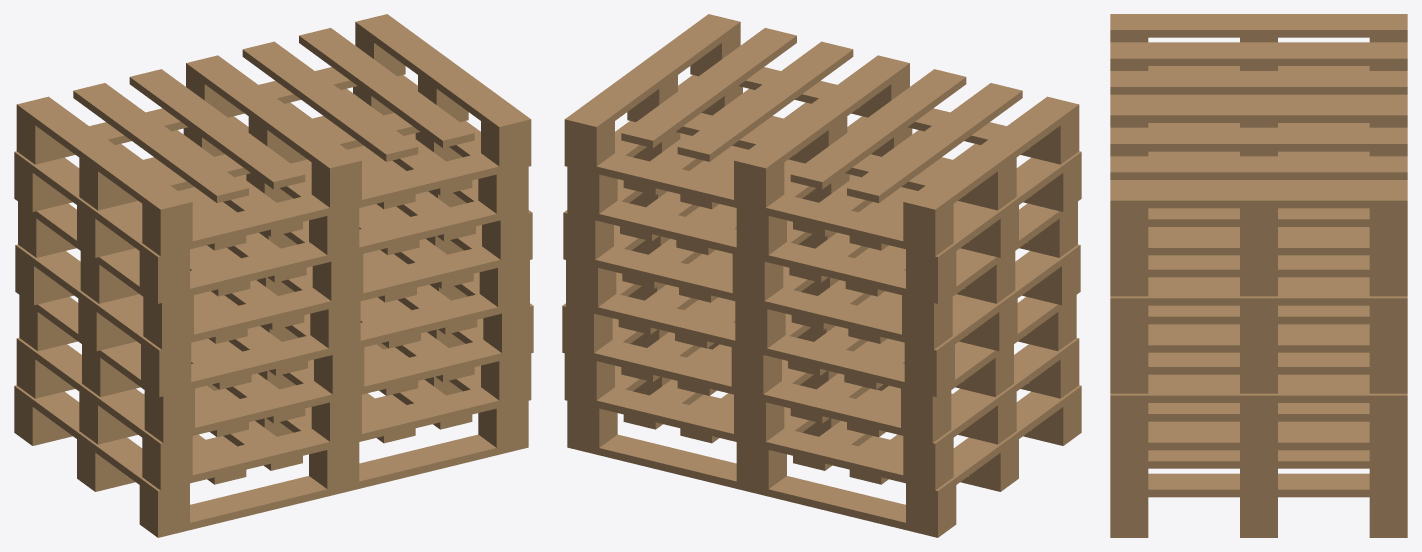
File: prop_pallet_stack.glb
The picture shows the model from 3 angles, left to right: view 1: azimuth 30°, elevation 25°; view 2: azimuth 150°, elevation 25°; view 3: azimuth 270°, elevation 25°; orthographic projection. The views are drawn at different scales.
Parts seen in each view (by area): view 1: Stack; view 2: Stack; view 3: Stack.
Part boxes in pixels (x1,y1,x2,y2): Stack: (14, 14, 533, 537); Stack: (562, 14, 1081, 537); Stack: (1110, 14, 1407, 537).
Size of what is drawn, in the model's own units: 1.18 by 0.98 by 0.78.
